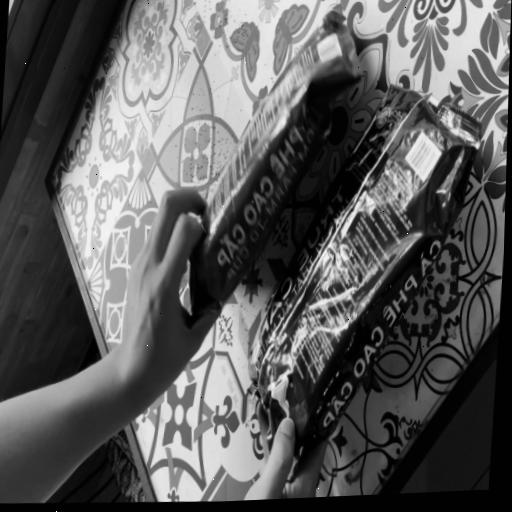cafe_hat: (248, 84, 481, 449)
cafe_xay: (187, 3, 361, 320)
